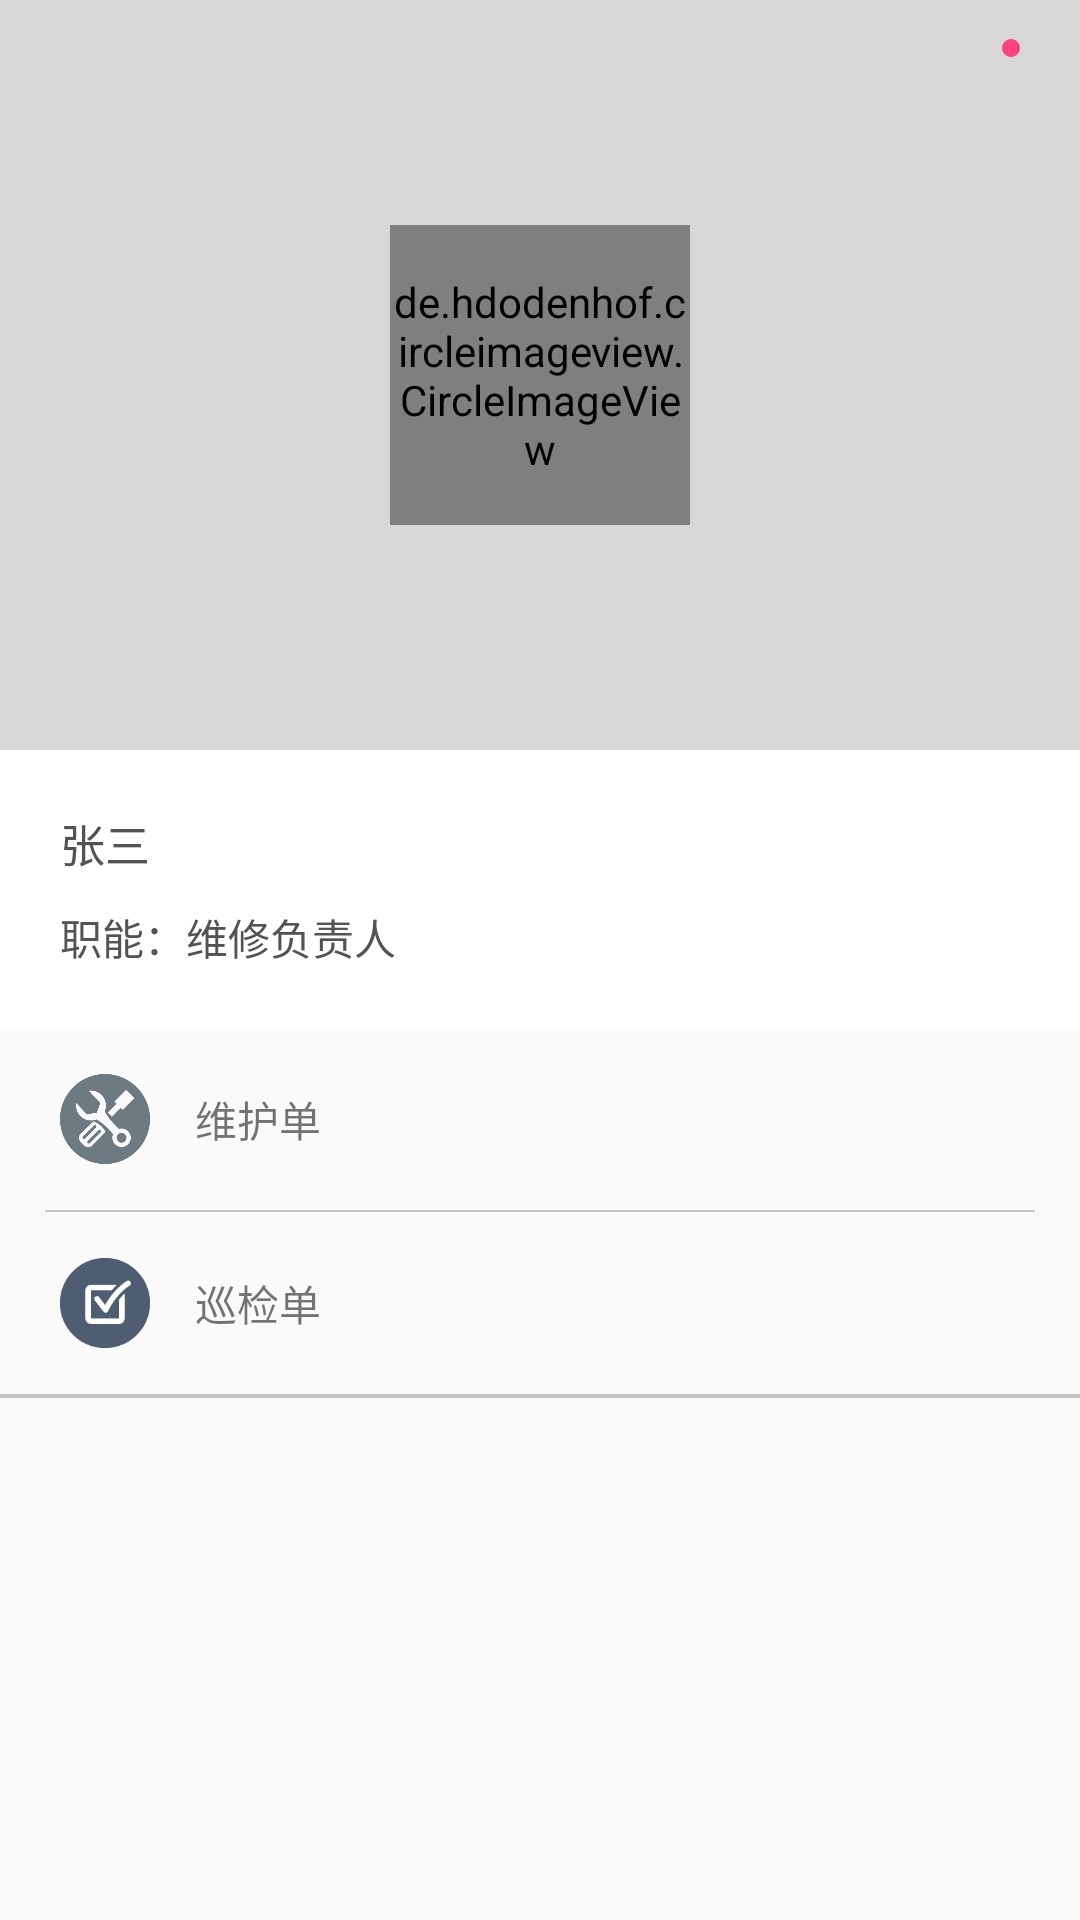

Named icons in this screenshot (1080px x 1920px) and their bounding boxes, (x1, y1, x2, y2):
pollingicon: (60, 1258, 150, 1348)
